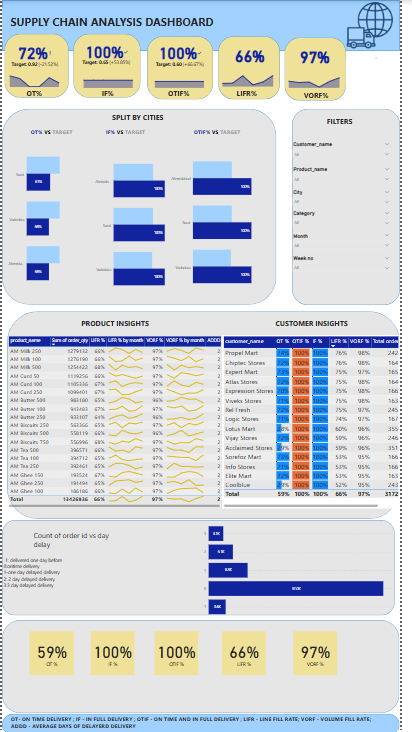

Layout of this report page (visuals, bound fields, positions):
{"tool":"powerbi","page":{"name":"Dashboard","canvas":[1350,2500],"ordinal":1},"visuals":[{"type":"group","id":"g1","title":"Group 1","box":[0,76,1351.8,2423.4],"z":0},{"type":"shape","box":[0,2183.3,1349.6,316.6],"z":0,"group":"g1"},{"type":"shape","box":[0,76,1350.9,171.9],"z":1000,"group":"g1"},{"type":"shape","box":[962.8,196.7,210.1,216.1],"z":1000},{"type":"card","fields":{"Values":["new measures.VORF %"]},"box":[965.8,216.1,207.2,114.8],"z":2000},{"type":"textbox","box":[0,268.7,1280.7,12],"z":2000,"group":"g1"},{"type":"textbox","box":[0,99.9,747.4,116.1],"z":3000,"group":"g1"},{"type":"areaChart","fields":{"Category":["dim_date.date.Variation.Date Hierarchy.Month"],"Y":["new measures.VORF %"]},"box":[962.8,313,210.1,61.1],"z":3000},{"type":"image","box":[1145.9,76,205,171.9],"z":4000,"group":"g1"},{"type":"textbox","box":[983.7,372.6,162.5,41.7],"z":4000},{"type":"shape","box":[8.8,190.1,218.8,217.5],"z":5000,"group":"g1"},{"type":"card","fields":{"Values":["new measures.OT %"]},"box":[93.9,2220.7,150.5,149],"z":5000},{"type":"shape","box":[243.9,191.3,228.8,217.5],"z":6000,"group":"g1"},{"type":"card","fields":{"Values":["new measures.IF %"]},"box":[307,2220.7,149,149],"z":6000},{"type":"shape","box":[491.6,200.3,225,215],"z":7000,"group":"g1"},{"type":"card","fields":{"Values":["new measures.OTIF %"]},"box":[518.7,2220.7,149,149],"z":7000},{"type":"shape","box":[734.2,198.4,210,215],"z":8000,"group":"g1"},{"type":"card","fields":{"Values":["new measures.LIFR %"]},"box":[730.3,2220.7,149,149],"z":8000},{"type":"kpi","fields":{"Indicator":["new measures.OT %"],"Goal":["new measures.Target On_time"],"TrendLine":["dim_customers.customer_id"]},"box":[13.8,205.9,197.4,119.4],"z":9000,"group":"g1"},{"type":"card","fields":{"Values":["new measures.VORF %"]},"box":[958.3,2220.7,149,149],"z":9000},{"type":"kpi","fields":{"Indicator":["new measures.IF %"],"Goal":["new measures.Target In_full"],"TrendLine":["dim_customers.customer_id"]},"box":[250.2,205.2,207.4,119.4],"z":10000,"group":"g1"},{"type":"shape","box":[0,2423.4,1350.3,76],"z":10000},{"type":"kpi","fields":{"Indicator":["new measures.OTIF %"],"Goal":["new measures.Target Full & Time"],"TrendLine":["dim_customers.customer_id"]},"box":[502.9,209.1,204.9,119.4],"z":11000,"group":"g1"},{"type":"card","fields":{"Values":["new measures.LIFR %"]},"box":[738,205.5,206.2,115.7],"z":12000,"group":"g1"},{"type":"textbox","box":[25.3,2423.4,1308.6,76],"z":12000},{"type":"shape","box":[0,444.4,931.9,665.8],"z":13000,"group":"g1"},{"type":"shape","box":[983,444.4,367.1,667.1],"z":14000,"group":"g1"},{"type":"stackedAreaChart","fields":{"Category":["dim_date.date.Variation.Date Hierarchy.Month"],"Y":["new measures.OT %"]},"box":[7.5,306.5,203.7,71.7],"z":15000,"group":"g1"},{"type":"areaChart","fields":{"Y":["new measures.IF %"],"Category":["dim_date.date.Variation.Date Hierarchy.Month"]},"box":[257.7,309.5,203.7,70.4],"z":16000,"group":"g1"},{"type":"areaChart","fields":{"Category":["dim_date.date.Variation.Date Hierarchy.Month"],"Y":["new measures.OTIF %"]},"box":[502.9,317.8,203.7,61.6],"z":17000,"group":"g1"},{"type":"areaChart","fields":{"Y":["new measures.LIFR %"],"Category":["dim_date.date.Variation.Date Hierarchy.Month"]},"box":[730.4,313.5,210,61.6],"z":18000,"group":"g1"},{"type":"textbox","box":[25.1,373.1,168.5,46.5],"z":19000,"group":"g1"},{"type":"textbox","box":[502.9,373.1,198.6,46.5],"z":20000,"group":"g1"},{"type":"textbox","box":[257.7,373.1,199.9,46.5],"z":21000,"group":"g1"},{"type":"textbox","box":[738,372.6,184.8,46.5],"z":22000,"group":"g1"},{"type":"textbox","box":[144.9,452,633.8,66.6],"z":23000,"group":"g1"},{"type":"textbox","box":[63,505,210.4,56.7],"z":24000,"group":"g1"},{"type":"clusteredBarChart","fields":{"Category":["dim_customers.city"],"Y":["new measures.Target On_time","new measures.OT %"]},"box":[0,533.9,282.4,565.8],"z":25000,"group":"g1"},{"type":"textbox","box":[299.9,505,236.9,48.1],"z":26000,"group":"g1"},{"type":"clusteredBarChart","fields":{"Y":["new measures.Target In_full","new measures.IF %"],"Category":["dim_customers.city"]},"box":[297.2,561.5,274.3,556.6],"z":27000,"group":"g1"},{"type":"textbox","box":[593.4,505,273.4,48.1],"z":28000,"group":"g1"},{"type":"clusteredBarChart","fields":{"Y":["new measures.Target Full & Time","new measures.OTIF %"],"Category":["dim_customers.city"]},"box":[566.2,552.3,301.2,557.9],"z":29000,"group":"g1"},{"type":"slicer","fields":{"Values":["dim_customers.customer_name"]},"box":[976.5,553.1,352.8,82.6],"z":30000,"group":"g1"},{"type":"textbox","box":[976.5,466.8,340.2,66.6],"z":31000,"group":"g1"},{"type":"slicer","fields":{"Values":["dim_products.product_name"]},"box":[976.5,635.7,352.8,75.2],"z":32000,"group":"g1"},{"type":"slicer","fields":{"Values":["dim_customers.city"]},"box":[976.5,710.9,352.8,75.2],"z":33000,"group":"g1"},{"type":"slicer","fields":{"Values":["dim_products.category"]},"box":[976.5,786.1,352.8,75.2],"z":34000,"group":"g1"},{"type":"slicer","fields":{"Values":["dim_date.date.Variation.Date Hierarchy.Month"]},"box":[976.5,861.3,352.8,75.2],"z":35000,"group":"g1"},{"type":"slicer","fields":{"Values":["dim_date.week_no","dim_date.week_no"]},"box":[976.5,936.5,352.8,75.2],"z":36000,"group":"g1"},{"type":"shape","box":[15.9,1133.9,1335.1,705.7],"z":37000,"group":"g1"},{"type":"textbox","box":[46.4,1155.4,674.9,57.3],"z":38000,"group":"g1"},{"type":"tableEx","fields":{"Values":["dim_customers.customer_name","new measures.OT %","new measures.OTIF %","new measures.IF %","new measures.LIFR %","new measures.VORF %","new measures.Total orders","new measures.ADDD"]},"box":[747.7,1212.9,603.8,589.5],"z":39000,"group":"g1"},{"type":"tableEx","fields":{"Values":["dim_products.product_name","Sum(fact_order lines.order_qty)","new measures.LIFR %","SparklineData(new measures.LIFR %_[dim_date.mmm_yy])","new measures.VORF %","SparklineData(new measures.VORF %_[dim_date.mmm_yy])","new measures.ADDD"]},"box":[16.1,1212.9,731.6,589.5],"z":40000,"group":"g1"},{"type":"textbox","box":[867.7,1155.4,371,57.3],"z":41000,"group":"g1"},{"type":"shape","box":[0,1840.2,1334.5,324.1],"z":42000,"group":"g1"},{"type":"barChart","fields":{"Category":["fact_order lines.Day_delay"],"Y":["CountNonNull(fact_order lines.order_id)"]},"box":[674.9,1852.8,654.1,324.8],"z":43000,"group":"g1"},{"type":"textbox","box":[15.9,1910.1,563.8,105.1],"z":44000,"group":"g1"},{"type":"textbox","box":[100.1,1871.9,300.2,193.4],"z":45000,"group":"g1"},{"type":"textbox","box":[0,1962.6,572.3,158.8],"z":46000,"group":"g1"}]}

Visuals, with their boxes on the page's 1350x2500 design canvas (x1, y1, x2, y2). These are canvas units, not pixel positions in the 412x732 screenshot, which may show the page scaled, cropped or inside an application window:
"Group 1" group: Rect(0, 76, 1352, 2499)
shape: Rect(0, 2183, 1350, 2500)
shape: Rect(0, 76, 1351, 248)
shape: Rect(963, 197, 1173, 413)
card - new measures.VORF %: Rect(966, 216, 1173, 331)
textbox: Rect(0, 269, 1281, 281)
textbox: Rect(0, 100, 747, 216)
areaChart - dim_date.date.Variation.Date Hierarchy.Month x new measures.VORF %: Rect(963, 313, 1173, 374)
image: Rect(1146, 76, 1351, 248)
textbox: Rect(984, 373, 1146, 414)
shape: Rect(9, 190, 228, 408)
card - new measures.OT %: Rect(94, 2221, 244, 2370)
shape: Rect(244, 191, 473, 409)
card - new measures.IF %: Rect(307, 2221, 456, 2370)
shape: Rect(492, 200, 717, 415)
card - new measures.OTIF %: Rect(519, 2221, 668, 2370)
shape: Rect(734, 198, 944, 413)
card - new measures.LIFR %: Rect(730, 2221, 879, 2370)
kpi - new measures.OT % x new measures.Target On_time: Rect(14, 206, 211, 325)
card - new measures.VORF %: Rect(958, 2221, 1107, 2370)
kpi - new measures.IF % x new measures.Target In_full: Rect(250, 205, 458, 325)
shape: Rect(0, 2423, 1350, 2499)
kpi - new measures.OTIF % x new measures.Target Full & Time: Rect(503, 209, 708, 328)
card - new measures.LIFR %: Rect(738, 206, 944, 321)
textbox: Rect(25, 2423, 1334, 2499)
shape: Rect(0, 444, 932, 1110)
shape: Rect(983, 444, 1350, 1112)
stackedAreaChart - dim_date.date.Variation.Date Hierarchy.Month x new measures.OT %: Rect(8, 306, 211, 378)
areaChart - new measures.IF % x dim_date.date.Variation.Date Hierarchy.Month: Rect(258, 310, 461, 380)
areaChart - dim_date.date.Variation.Date Hierarchy.Month x new measures.OTIF %: Rect(503, 318, 707, 379)
areaChart - new measures.LIFR % x dim_date.date.Variation.Date Hierarchy.Month: Rect(730, 314, 940, 375)
textbox: Rect(25, 373, 194, 420)
textbox: Rect(503, 373, 702, 420)
textbox: Rect(258, 373, 458, 420)
textbox: Rect(738, 373, 923, 419)
textbox: Rect(145, 452, 779, 519)
textbox: Rect(63, 505, 273, 562)
clusteredBarChart - dim_customers.city x new measures.Target On_time: Rect(0, 534, 282, 1100)
textbox: Rect(300, 505, 537, 553)
clusteredBarChart - new measures.Target In_full x new measures.IF %: Rect(297, 562, 572, 1118)
textbox: Rect(593, 505, 867, 553)
clusteredBarChart - new measures.Target Full & Time x new measures.OTIF %: Rect(566, 552, 867, 1110)
slicer - dim_customers.customer_name: Rect(976, 553, 1329, 636)
textbox: Rect(976, 467, 1317, 533)
slicer - dim_products.product_name: Rect(976, 636, 1329, 711)
slicer - dim_customers.city: Rect(976, 711, 1329, 786)
slicer - dim_products.category: Rect(976, 786, 1329, 861)
slicer - dim_date.date.Variation.Date Hierarchy.Month: Rect(976, 861, 1329, 936)
slicer - dim_date.week_no x dim_date.week_no: Rect(976, 936, 1329, 1012)
shape: Rect(16, 1134, 1351, 1840)
textbox: Rect(46, 1155, 721, 1213)
tableEx - dim_customers.customer_name x new measures.OT %: Rect(748, 1213, 1352, 1802)
tableEx - dim_products.product_name x Sum(fact_order lines.order_qty): Rect(16, 1213, 748, 1802)
textbox: Rect(868, 1155, 1239, 1213)
shape: Rect(0, 1840, 1334, 2164)
barChart - fact_order lines.Day_delay x CountNonNull(fact_order lines.order_id): Rect(675, 1853, 1329, 2178)
textbox: Rect(16, 1910, 580, 2015)
textbox: Rect(100, 1872, 400, 2065)
textbox: Rect(0, 1963, 572, 2121)
